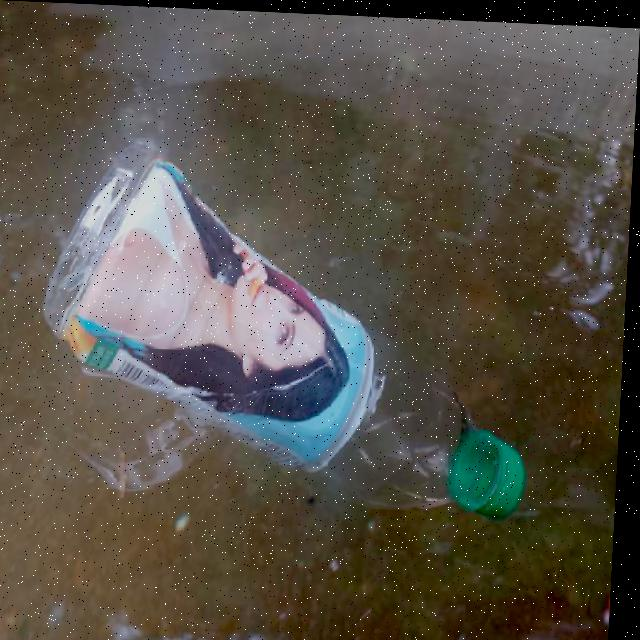waterbottle: (36, 118, 548, 528)
